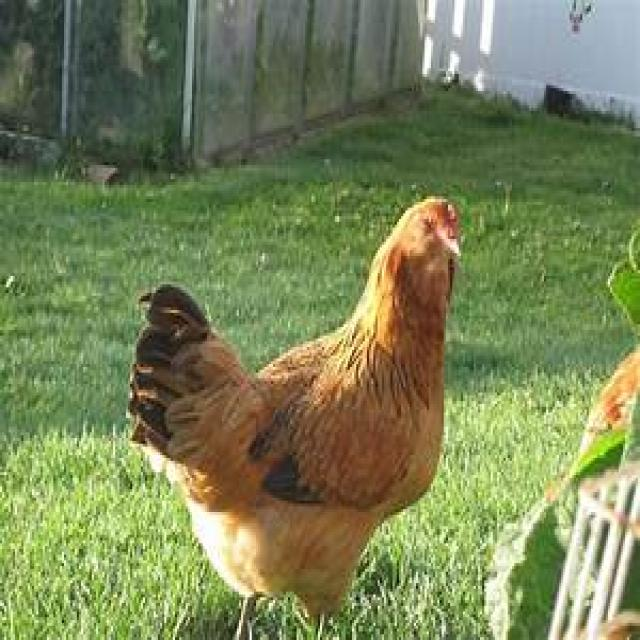hen: (128, 199, 463, 640)
